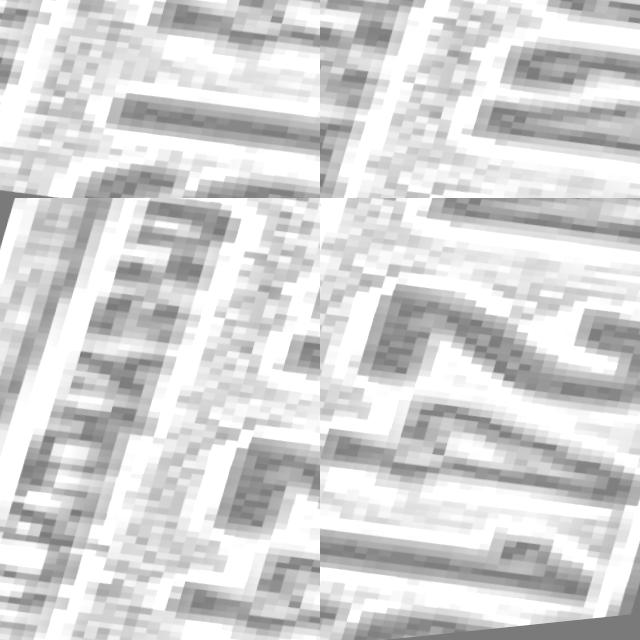license-plate: (0, 198, 320, 640), (320, 198, 640, 640), (0, 0, 320, 198), (320, 0, 640, 198)
